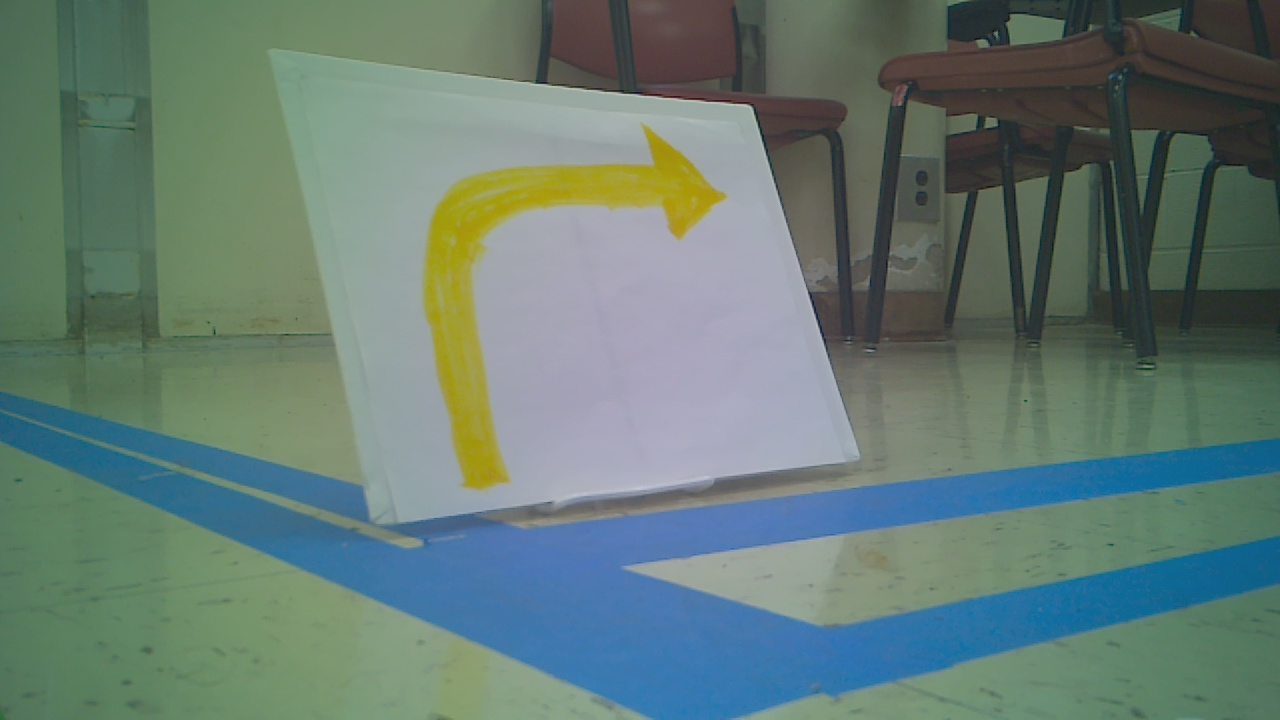right: (418, 121, 728, 490)
